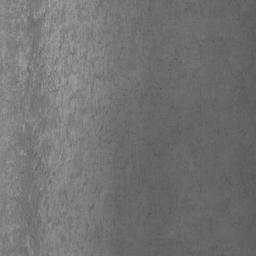Silk spot: (0, 0, 230, 256), (230, 49, 256, 113), (192, 102, 231, 136), (216, 168, 256, 200), (144, 227, 182, 254), (236, 12, 256, 42), (192, 215, 218, 233), (232, 214, 256, 230)
